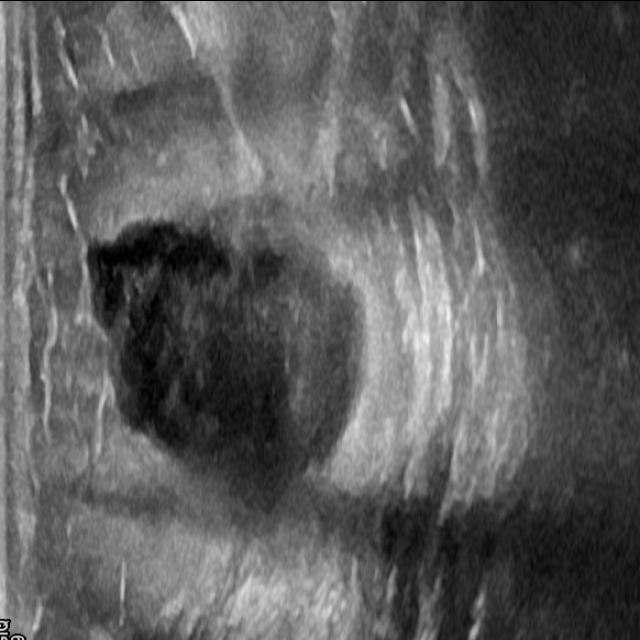Malignant: (80, 222, 333, 474)
